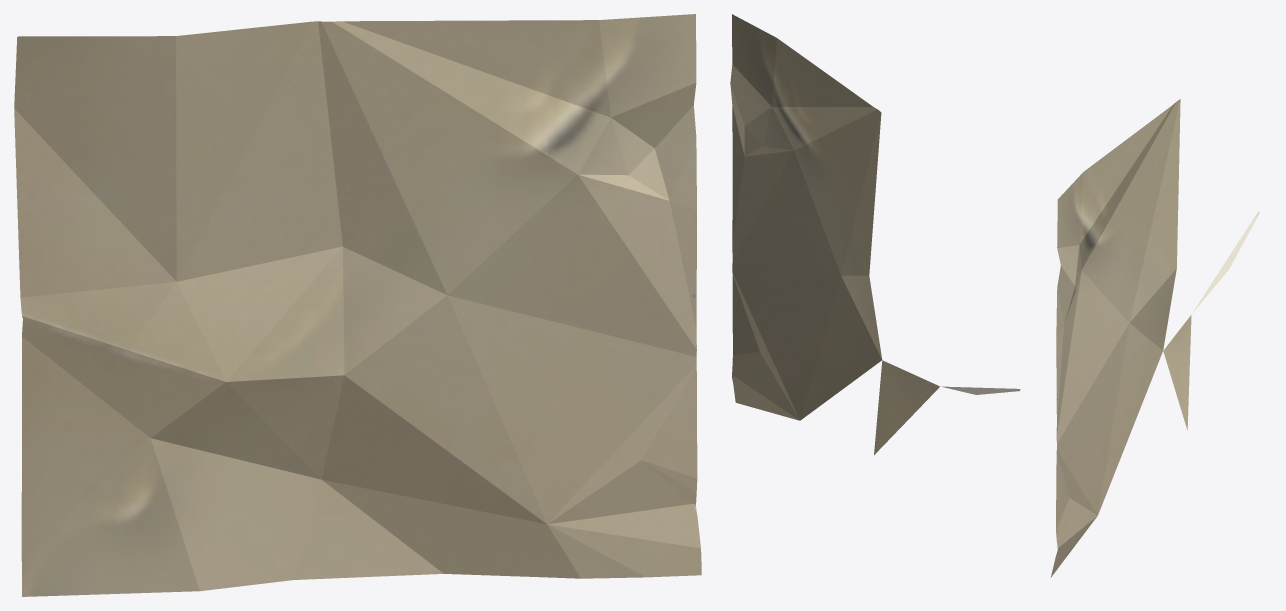
The picture shows the model from 3 angles, left to right: view 1: azimuth 30°, elevation 25°; view 2: azimuth 150°, elevation 25°; view 3: azimuth 270°, elevation 25°; orthographic projection. The views are drawn at different scales.
Bounding box in the file's own units: 1.67 × 1.67 × 0.8476.
3 materials, 3 textured.
